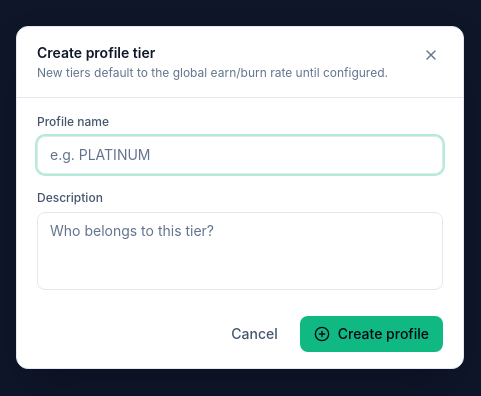
Scenario: CreateProfileModal › validates that profile name is required
The width and height of the screenshot is (481, 396).
Click the button "Create profile": [371, 334] box [300, 316, 443, 352]
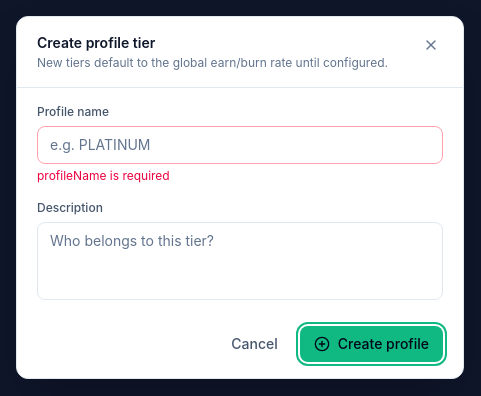
expect the text "profileName is required" is shown: met, box [37, 168, 170, 182]
